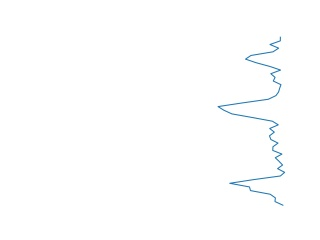underwaterNaturalLevee: (214, 36, 290, 208)
